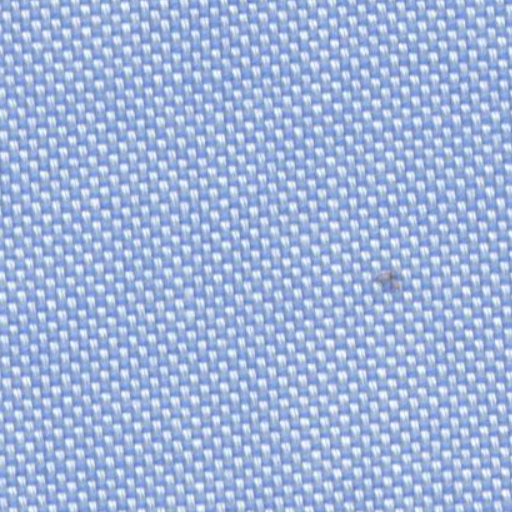WuZi: (364, 246, 412, 306)
